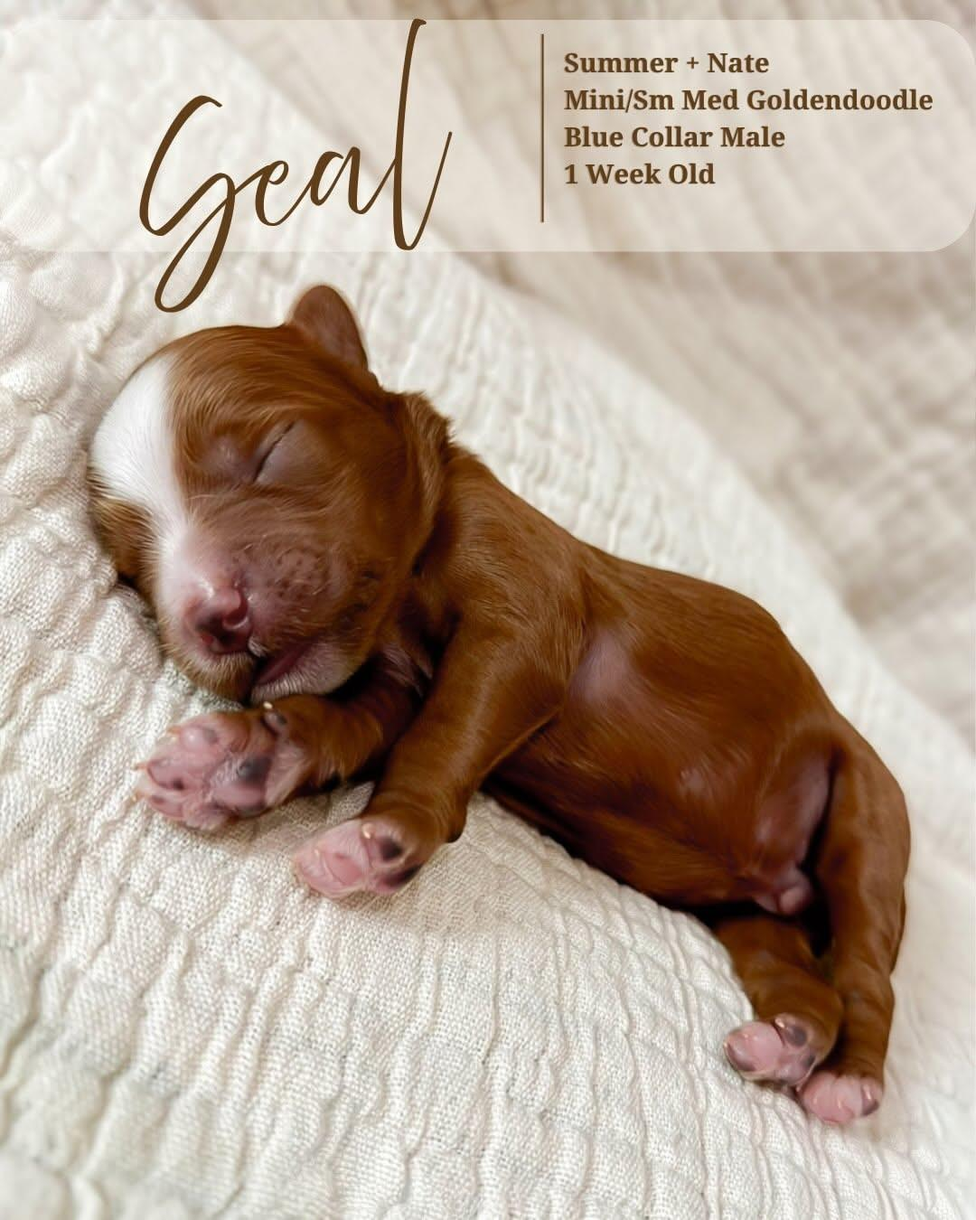puppy-dog: (80, 282, 914, 1129)
